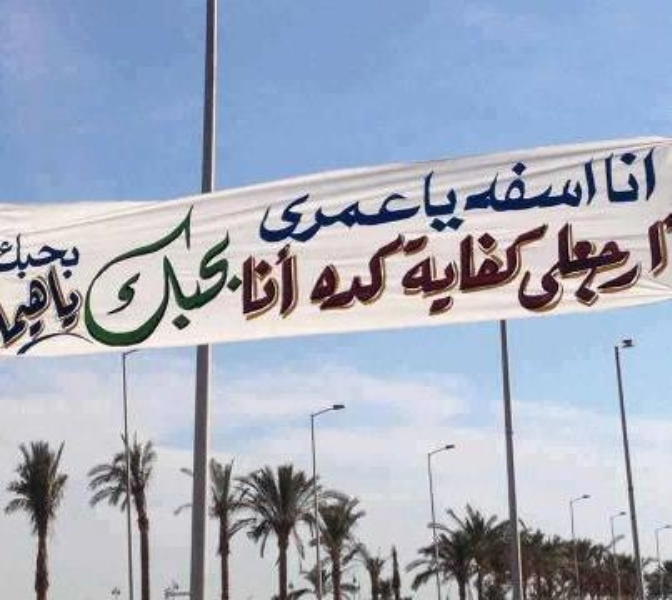text: (97, 199, 112, 356), (113, 199, 128, 356), (129, 199, 144, 356), (145, 199, 160, 356), (161, 199, 176, 356), (177, 199, 192, 356), (193, 199, 208, 356), (209, 199, 224, 356), (225, 199, 240, 356), (577, 214, 592, 324), (593, 214, 608, 324), (609, 214, 624, 324), (625, 214, 640, 324), (641, 214, 656, 324), (562, 214, 576, 324), (417, 217, 432, 319), (433, 217, 448, 319), (449, 217, 464, 319), (465, 217, 480, 319), (481, 217, 496, 319), (497, 217, 512, 319), (513, 217, 528, 319), (529, 217, 544, 319), (545, 217, 560, 319), (1, 257, 16, 356), (17, 257, 32, 356), (33, 257, 48, 356), (49, 257, 64, 356), (65, 257, 80, 356), (657, 214, 669, 324), (241, 199, 249, 356), (321, 231, 336, 312), (337, 231, 352, 312), (353, 231, 368, 312), (369, 231, 384, 312), (385, 231, 400, 312), (241, 241, 256, 321), (257, 241, 272, 321), (273, 241, 288, 321), (289, 241, 302, 321), (433, 167, 448, 236), (257, 181, 272, 249), (273, 181, 288, 249), (289, 181, 304, 249), (305, 181, 320, 249), (321, 181, 336, 249), (337, 181, 352, 249), (353, 181, 368, 249), (369, 181, 384, 249), (385, 181, 400, 249), (401, 181, 416, 249), (641, 147, 657, 204), (449, 167, 462, 236), (609, 147, 624, 204), (625, 147, 640, 204), (1, 229, 16, 284), (17, 229, 32, 284), (33, 229, 48, 284), (49, 229, 64, 284), (65, 229, 80, 284), (481, 161, 496, 211), (497, 161, 512, 211), (513, 161, 528, 211), (529, 161, 544, 211), (545, 161, 560, 211), (561, 161, 576, 211), (577, 161, 592, 211), (409, 217, 416, 319), (422, 167, 432, 236), (401, 231, 409, 312), (92, 199, 96, 356), (417, 181, 426, 249), (469, 161, 480, 211), (81, 257, 86, 356), (593, 161, 601, 211), (81, 229, 87, 284), (316, 231, 320, 312), (561, 217, 564, 319), (604, 147, 608, 204), (239, 241, 240, 321)
